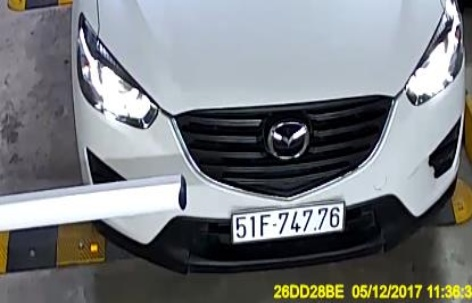plate: (230, 196, 347, 244)
